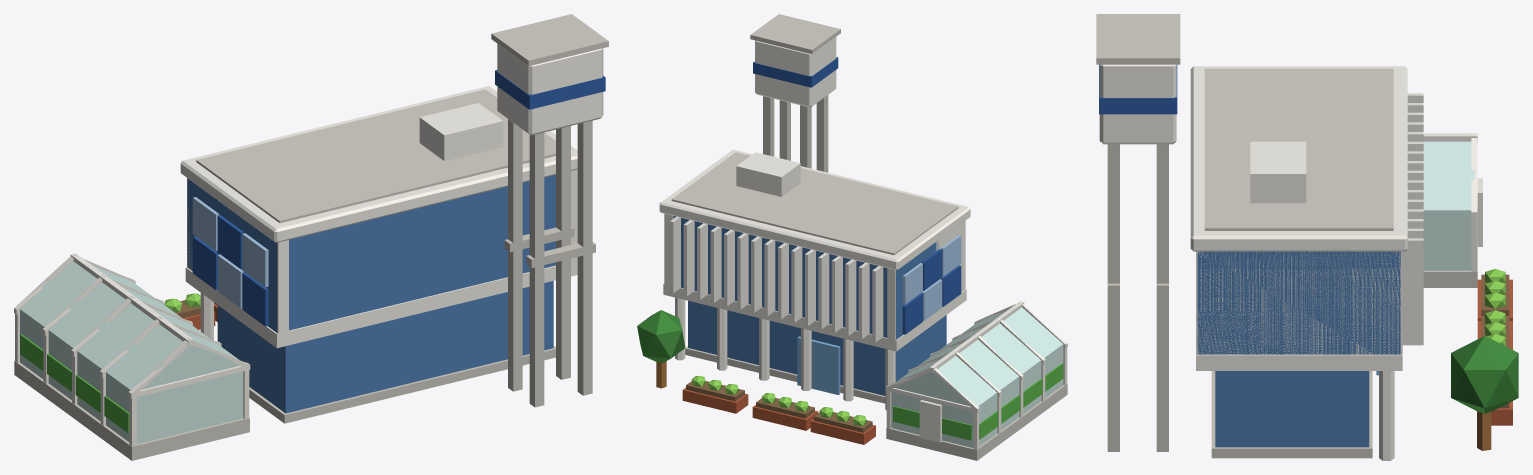
Rendered from centro_pesquisa.glb.
The picture shows the model from 3 angles, left to right: view 1: azimuth 30°, elevation 25°; view 2: azimuth 150°, elevation 25°; view 3: azimuth 270°, elevation 25°; orthographic projection. The views are drawn at different scales.
Parts seen in each view (by area): view 1: corpo; view 2: corpo; view 3: corpo.
Boxes of the visible parts, left/top/right/bottom form: corpo: left=14, top=14, right=608, bottom=460; corpo: left=637, top=14, right=1067, bottom=460; corpo: left=1096, top=14, right=1518, bottom=460.
Bounding box in the file's own units: 1.66 × 1.26 × 1.21.
